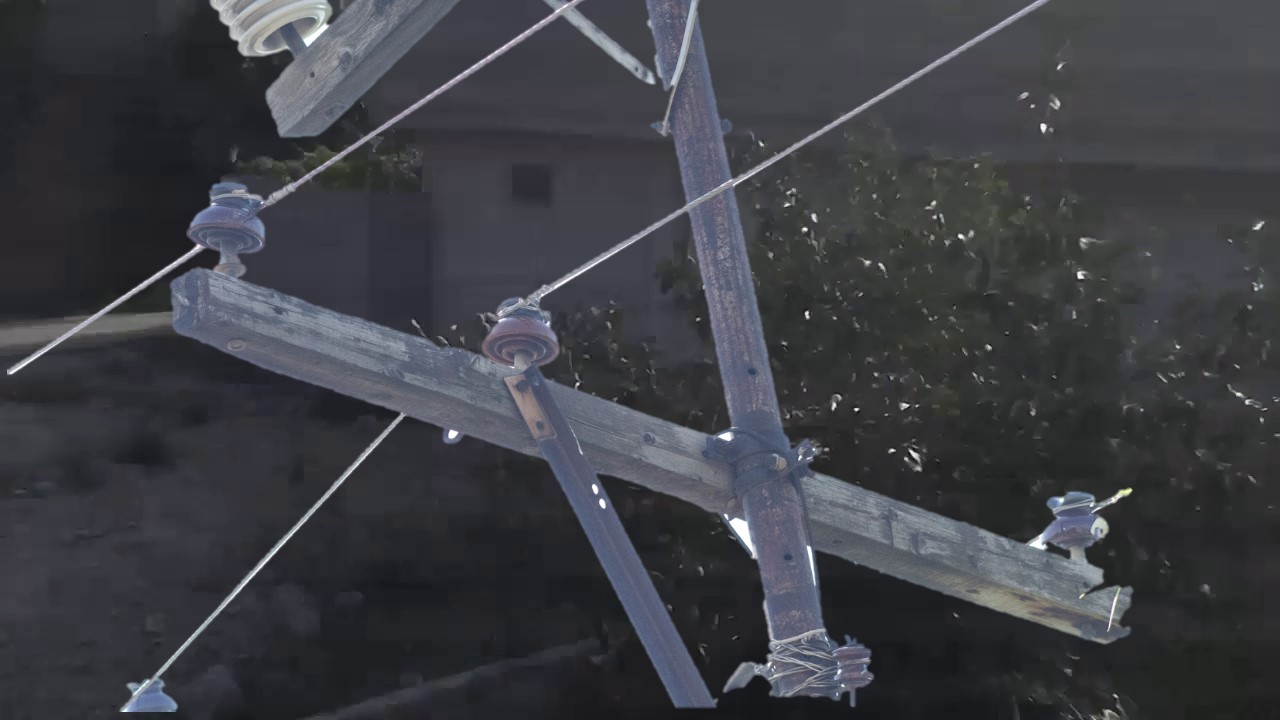defect_pin: (1035, 482, 1116, 558)
insulator_pin: (186, 169, 272, 268), (484, 297, 566, 373)
